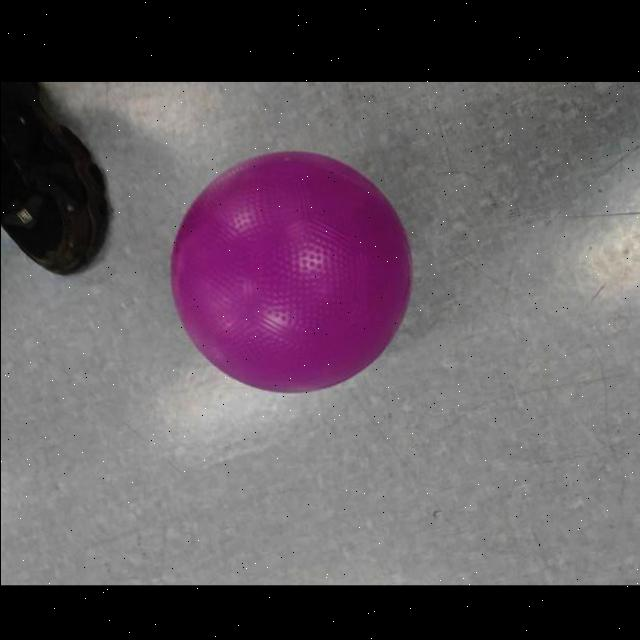P: (166, 145, 414, 399)
